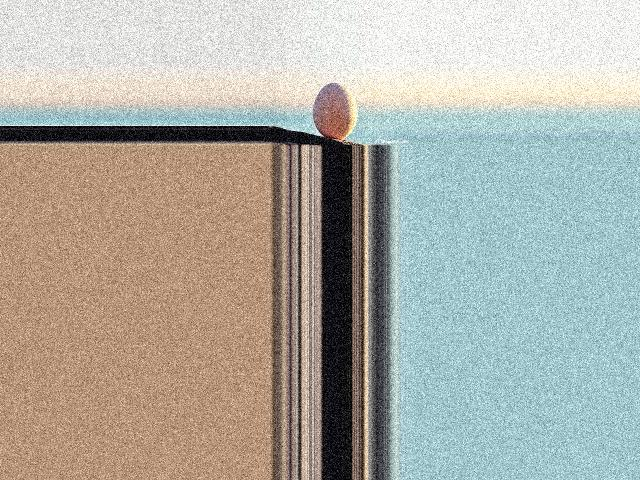egg: (312, 82, 358, 139)
